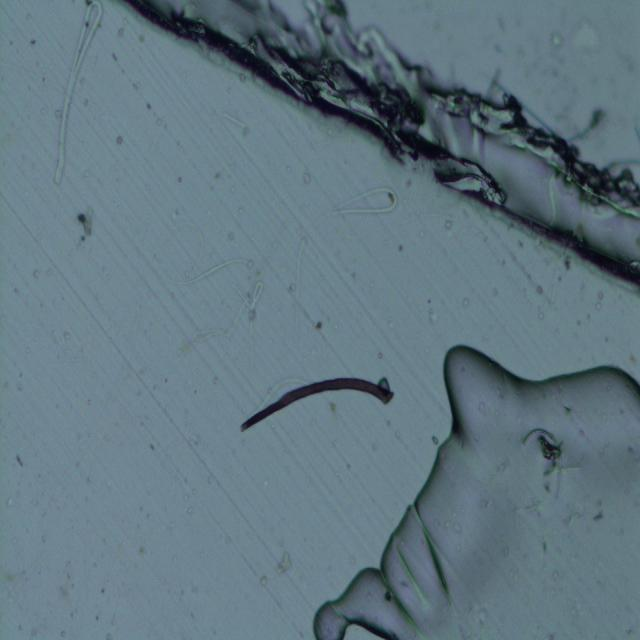Air bubble: (311, 331, 640, 638)
Background material: (518, 425, 564, 481), (74, 206, 98, 238), (273, 543, 293, 575)
Edge of slide: (115, 0, 640, 290)
Glass filter fibre: (294, 187, 398, 307), (53, 0, 105, 187), (192, 297, 250, 345), (175, 253, 255, 286), (248, 280, 264, 348), (221, 111, 249, 130)
Microfibre: (237, 376, 395, 433)
